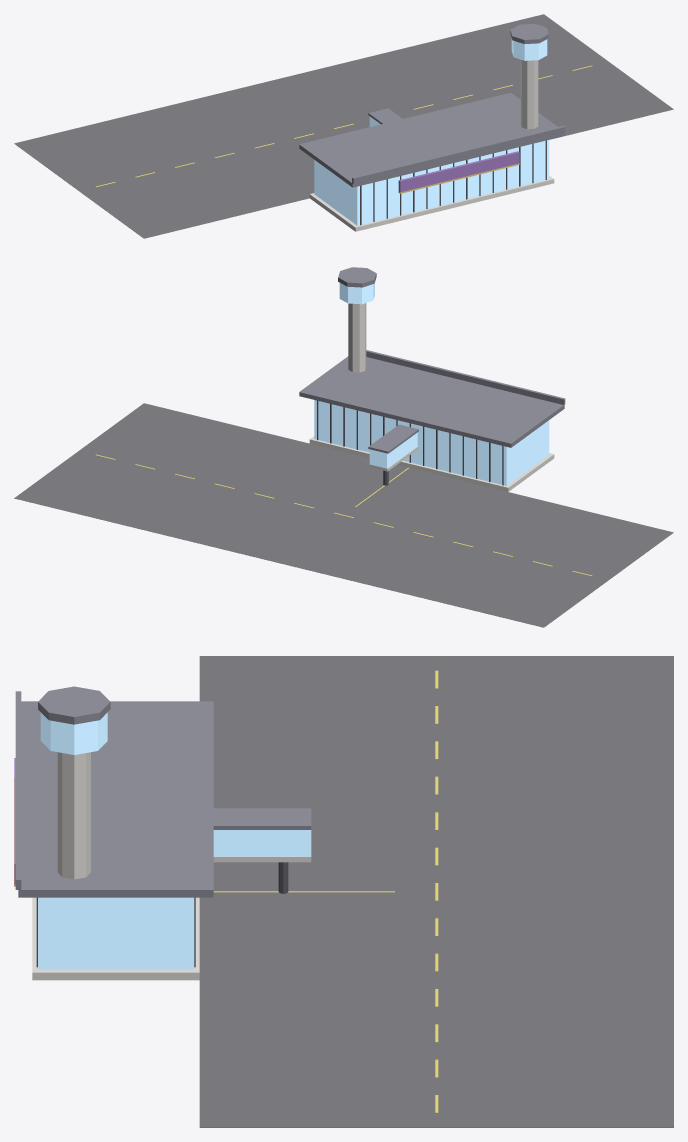
Rendered from airport-terminal.glb.
The picture shows the model from 3 angles, top to bottom: view 1: azimuth 30°, elevation 25°; view 2: azimuth 150°, elevation 25°; view 3: azimuth 270°, elevation 25°; orthographic projection. The views are drawn at different scales.
Parts seen in each view (by area): view 1: airport-terminal-tarmac, airport-terminal-roof, airport-terminal-glass, airport-terminal-concrete, airport-terminal-violet, airport-terminal-dark, airport-terminal-line; view 2: airport-terminal-tarmac, airport-terminal-roof, airport-terminal-glass, airport-terminal-concrete, airport-terminal-dark; view 3: airport-terminal-tarmac, airport-terminal-roof, airport-terminal-glass, airport-terminal-concrete, airport-terminal-line.
Boxes of the visible parts, left/top/right/bottom form: airport-terminal-tarmac: left=14, top=14, right=673, bottom=238; airport-terminal-roof: left=299, top=24, right=565, bottom=187; airport-terminal-glass: left=314, top=39, right=549, bottom=225; airport-terminal-concrete: left=309, top=60, right=554, bottom=231; airport-terminal-violet: left=398, top=151, right=519, bottom=192; airport-terminal-dark: left=360, top=140, right=546, bottom=225; airport-terminal-line: left=95, top=65, right=592, bottom=187; airport-terminal-tarmac: left=14, top=403, right=673, bottom=627; airport-terminal-roof: left=299, top=267, right=565, bottom=453; airport-terminal-glass: left=314, top=283, right=549, bottom=485; airport-terminal-concrete: left=309, top=303, right=554, bottom=491; airport-terminal-dark: left=317, top=400, right=503, bottom=485; airport-terminal-tarmac: left=199, top=656, right=673, bottom=1127; airport-terminal-roof: left=15, top=686, right=311, bottom=897; airport-terminal-glass: left=38, top=712, right=311, bottom=969; airport-terminal-concrete: left=32, top=752, right=311, bottom=980; airport-terminal-line: left=213, top=670, right=438, bottom=1112.
Size of the model in its own units: 80 by 21.12 by 47.32.
